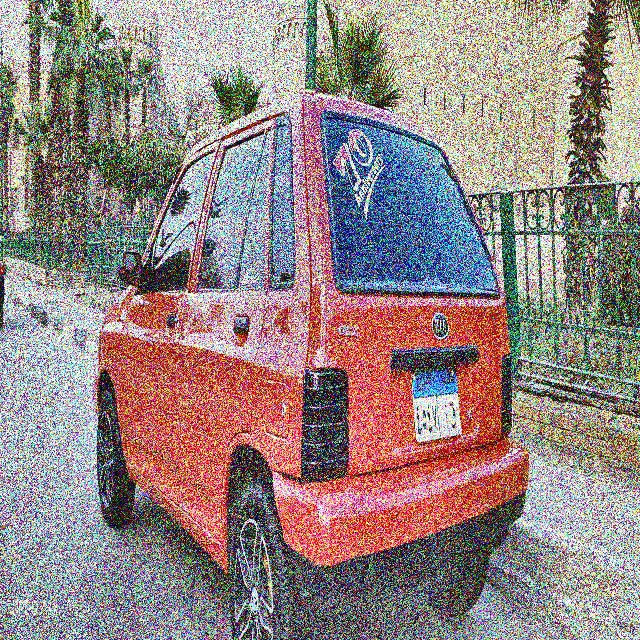License Plate: (410, 366, 463, 445)
